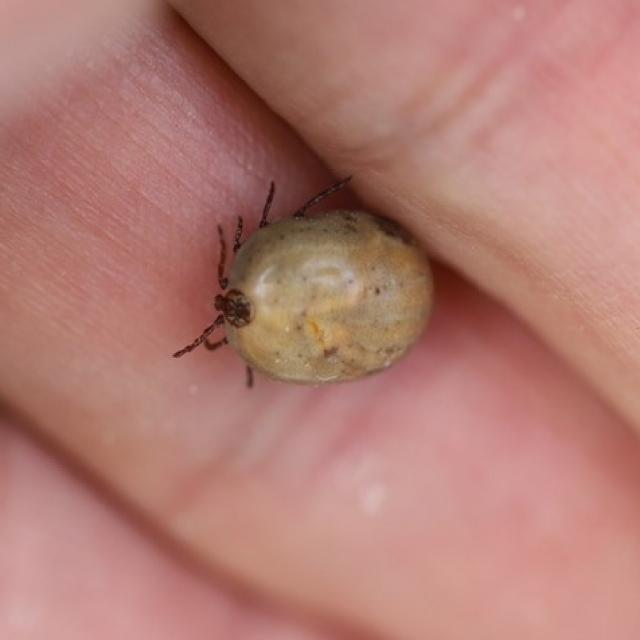Dermacentor Reticulatus-F-Fed: (172, 177, 434, 389)
